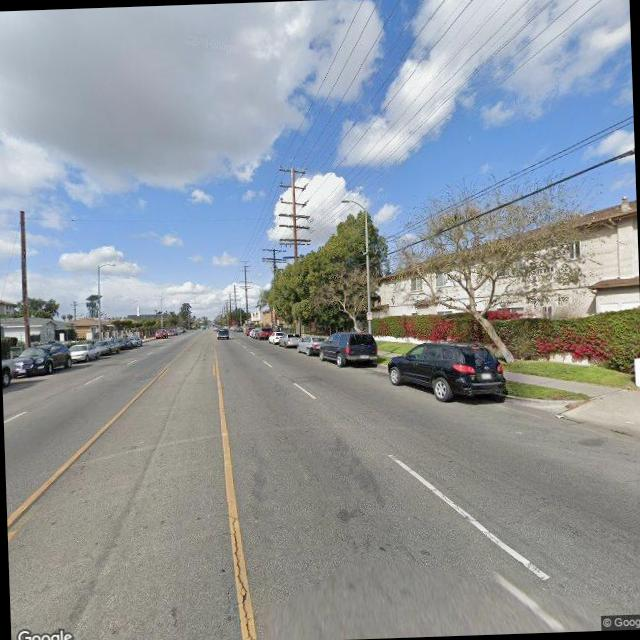crack: (221, 502, 261, 640)
